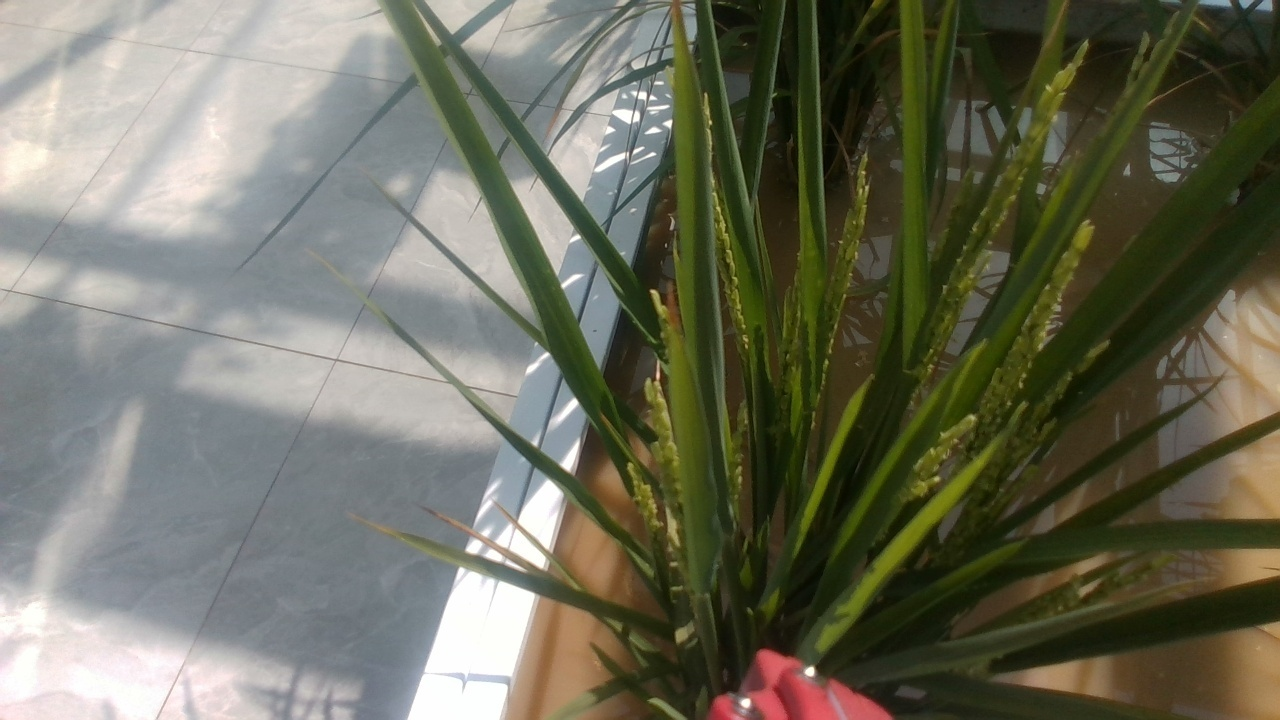panicle: (926, 47, 1093, 341), (986, 244, 1111, 470), (818, 157, 883, 364), (899, 409, 977, 507), (638, 370, 694, 483), (706, 181, 747, 323), (617, 453, 663, 553)
